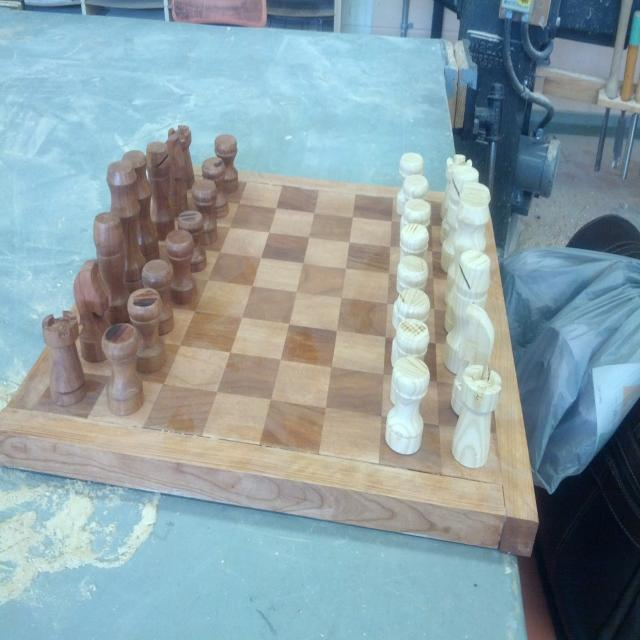chess-table-corners: (18, 388, 49, 426)
